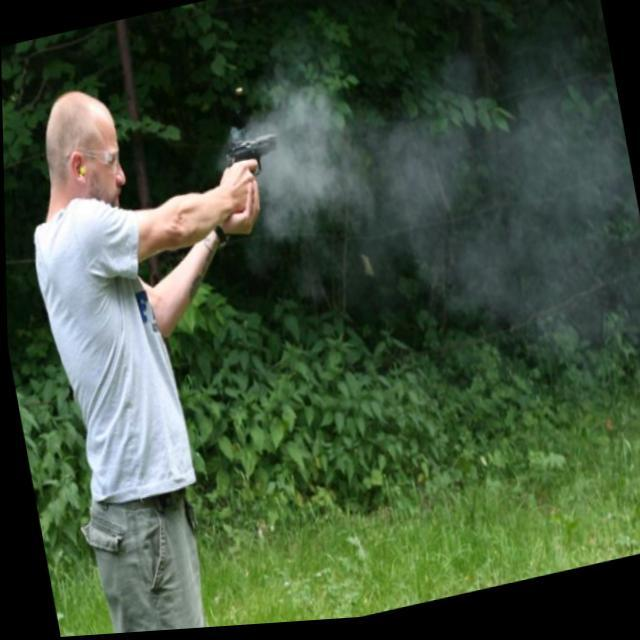weapon: (220, 132, 282, 186)
